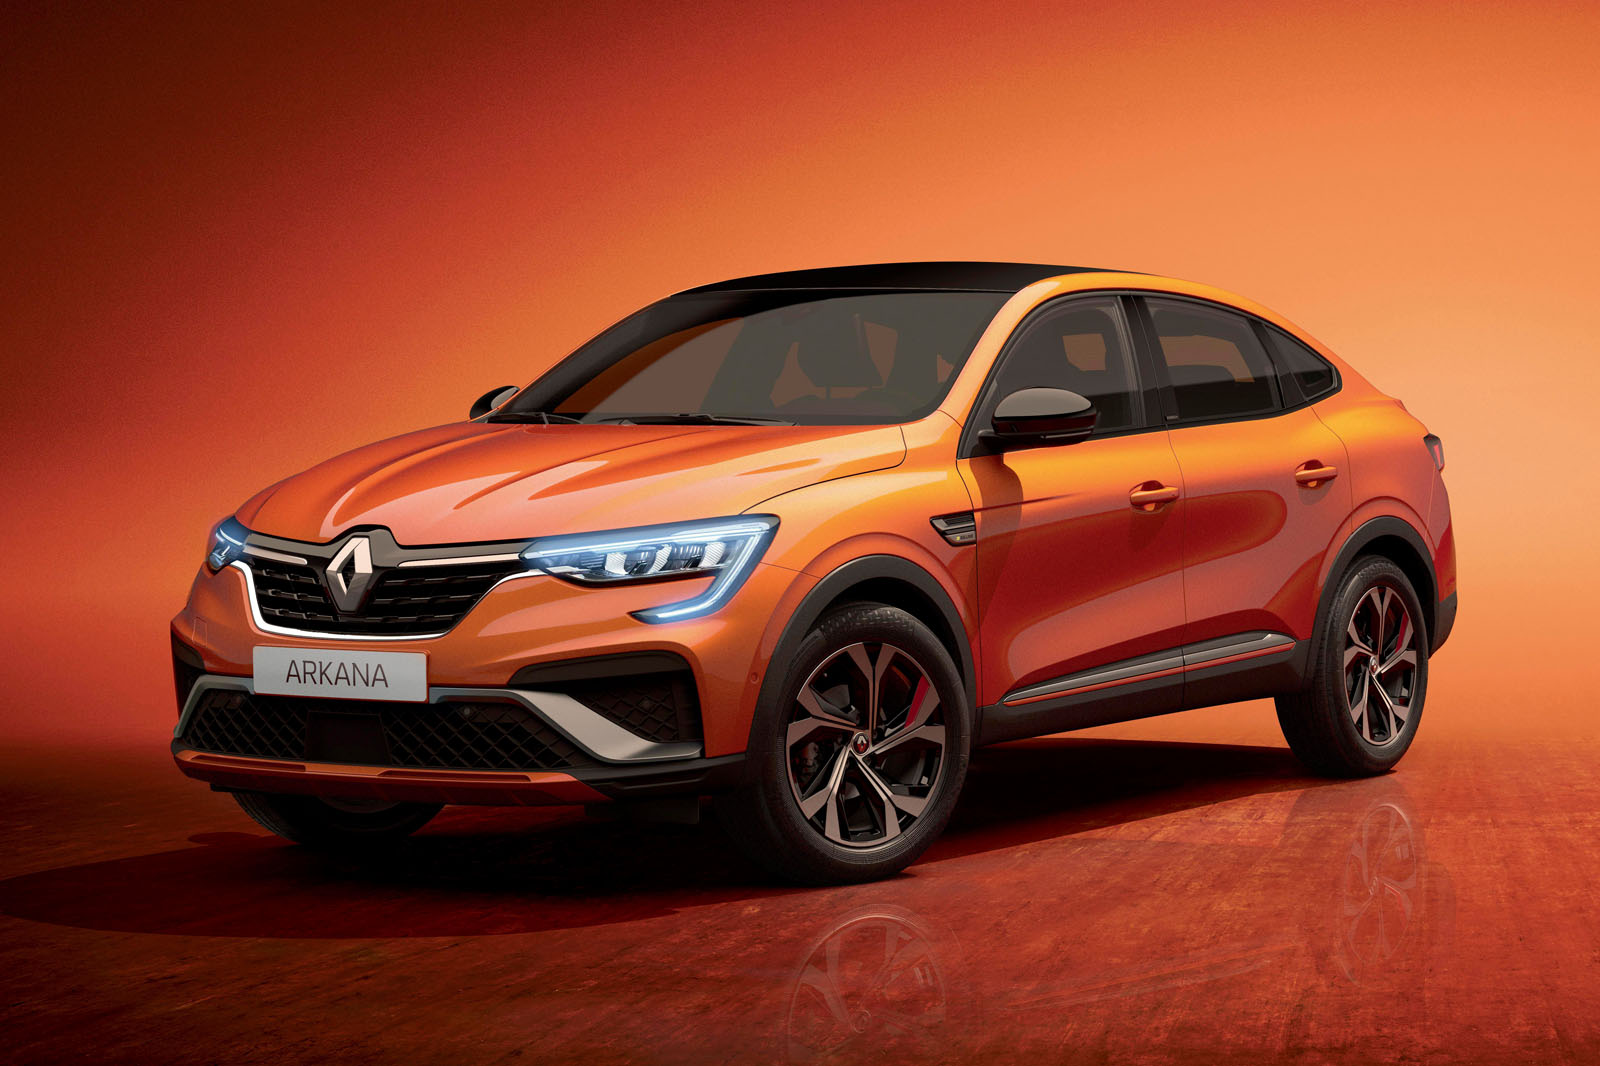car: (169, 261, 1457, 885)
